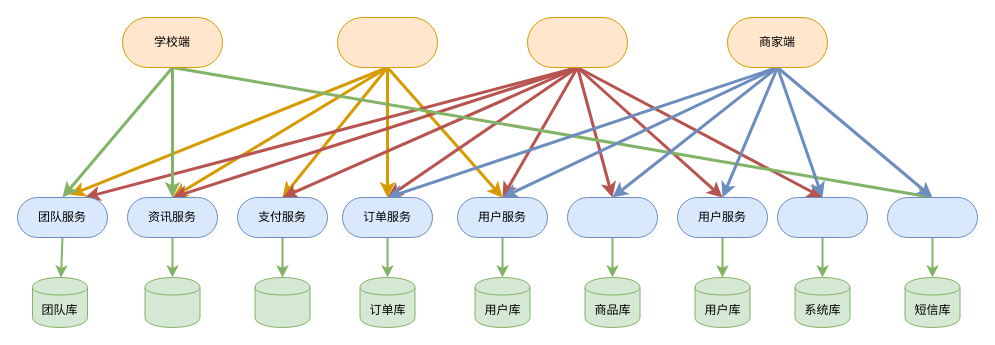
This 995x345 diagram has some shape labels left out. The shapes that lost their labels are listed below. From the top down, each one's box as (x1, y1, x2, y2) in pixels, then its label:
(336, 16, 438, 68): 学生端
(526, 16, 628, 68): 网站前台
(566, 196, 658, 238): 商品服务
(776, 196, 868, 238): 系统服务
(886, 196, 978, 238): 短信服务
(144, 276, 200, 328): 资讯库
(254, 276, 310, 328): 支付库
